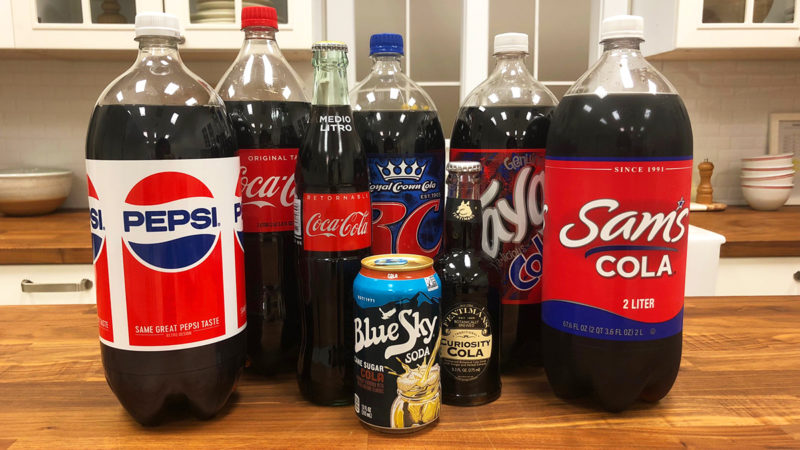pepsi: (119, 170, 220, 271), (119, 170, 218, 271)
